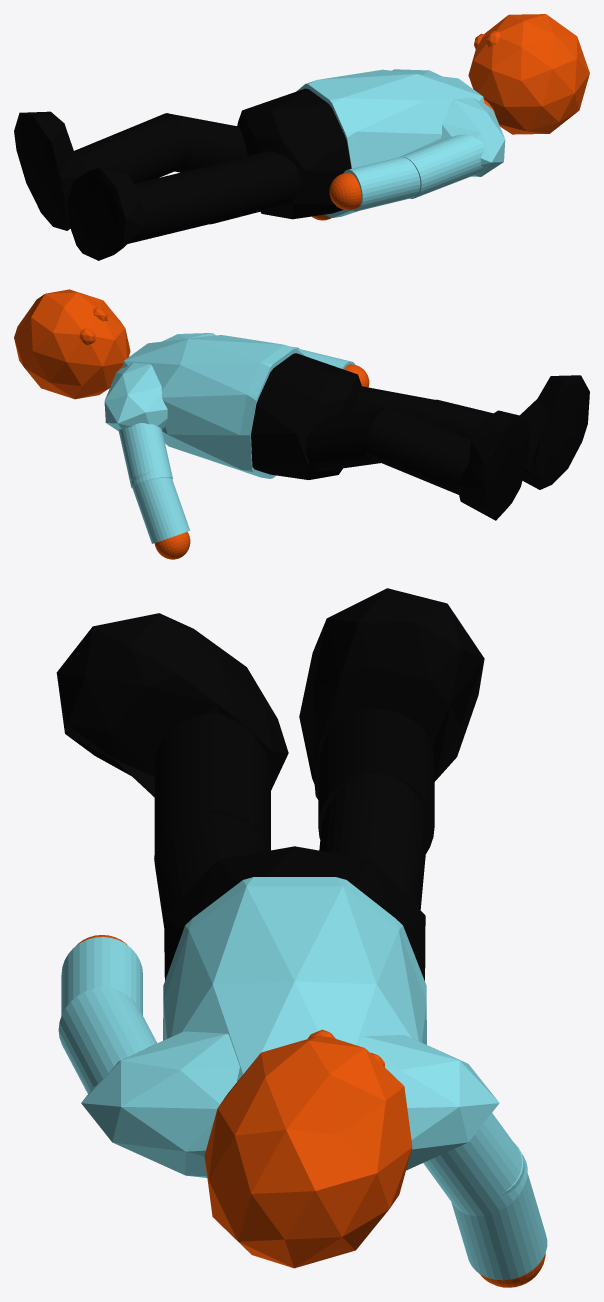
The model's file is patientER.fbx.
3 views of the same model, one above another, from view 1: azimuth 30°, elevation 25°; view 2: azimuth 150°, elevation 25°; view 3: azimuth 270°, elevation 25° (orthographic). The views are drawn at different scales.
Visible parts, largest first — view 1: Icosphere.001, Icosphere, Icosphere.009, Icosphere.005, Icosphere.006, Cylinder.006, Cylinder.003, Cylinder.007, Cylinder, Icosphere.004, Cylinder.004, Cylinder.002 (+1 smaller); view 2: Icosphere, Icosphere.001, Icosphere.009, Cylinder.006, Icosphere.006, Icosphere.005, Icosphere.004, Cylinder.002, Cylinder.005, Cylinder.001, Cylinder.003, Cylinder.007 (+2 smaller); view 3: Icosphere, Icosphere.001, Icosphere.004, Icosphere.005, Icosphere.006, Cylinder.003, Cylinder.002, Icosphere.009, Cylinder.006, Cylinder, Cylinder.001, Cylinder.007 (+2 smaller).
Part boxes in pixels (left/top/right/bottom): Icosphere.001: left=468, top=14, right=589, bottom=134; Icosphere: left=296, top=69, right=484, bottom=217; Icosphere.009: left=237, top=88, right=351, bottom=219; Icosphere.005: left=66, top=168, right=144, bottom=260; Icosphere.006: left=14, top=111, right=88, bottom=230; Cylinder.006: left=74, top=113, right=191, bottom=183; Cylinder.003: left=129, top=167, right=223, bottom=243; Cylinder.007: left=204, top=151, right=301, bottom=224; Cylinder: left=401, top=134, right=484, bottom=198; Icosphere.004: left=392, top=69, right=505, bottom=176; Cylinder.004: left=344, top=157, right=420, bottom=211; Cylinder.002: left=170, top=114, right=247, bottom=172; Icosphere: left=122, top=335, right=305, bottom=478; Icosphere.001: left=14, top=289, right=130, bottom=399; Icosphere.009: left=251, top=353, right=361, bottom=479; Cylinder.006: left=365, top=407, right=470, bottom=494; Icosphere.006: left=456, top=410, right=529, bottom=520; Icosphere.005: left=520, top=375, right=589, bottom=489; Icosphere.004: left=104, top=333, right=215, bottom=430; Cylinder.002: left=305, top=407, right=397, bottom=471; Cylinder.005: left=129, top=470, right=189, bottom=543; Cylinder.001: left=118, top=423, right=172, bottom=487; Cylinder.003: left=420, top=399, right=492, bottom=439; Cylinder.007: left=353, top=386, right=434, bottom=418; Icosphere: left=163, top=877, right=426, bottom=1081; Icosphere.001: left=204, top=1036, right=412, bottom=1268; Icosphere.004: left=81, top=1031, right=499, bottom=1177; Icosphere.005: left=56, top=613, right=288, bottom=797; Icosphere.006: left=299, top=588, right=484, bottom=799; Cylinder.003: left=154, top=714, right=270, bottom=859; Cylinder.002: left=319, top=773, right=427, bottom=909; Icosphere.009: left=164, top=846, right=425, bottom=980; Cylinder.006: left=318, top=708, right=434, bottom=853; Cylinder: left=58, top=987, right=156, bottom=1093; Cylinder.001: left=423, top=1113, right=527, bottom=1216; Cylinder.007: left=154, top=812, right=268, bottom=927.
Size of the model in its own units: 319 by 117 by 132.
